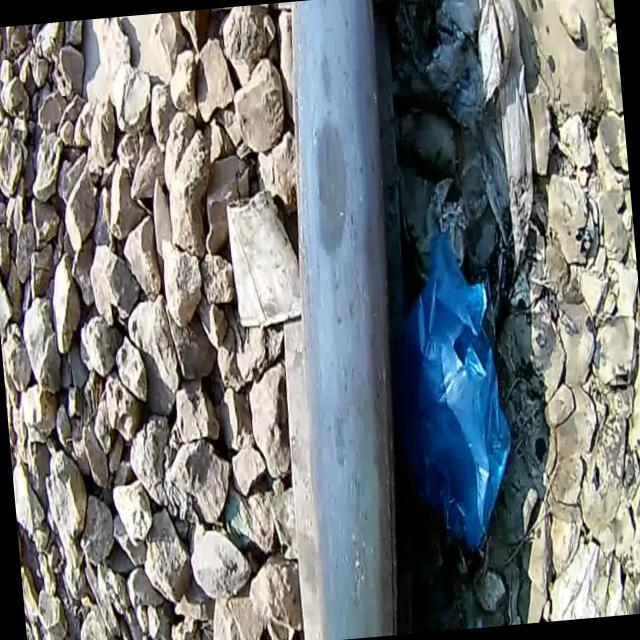Squats: (249, 0, 446, 640)
